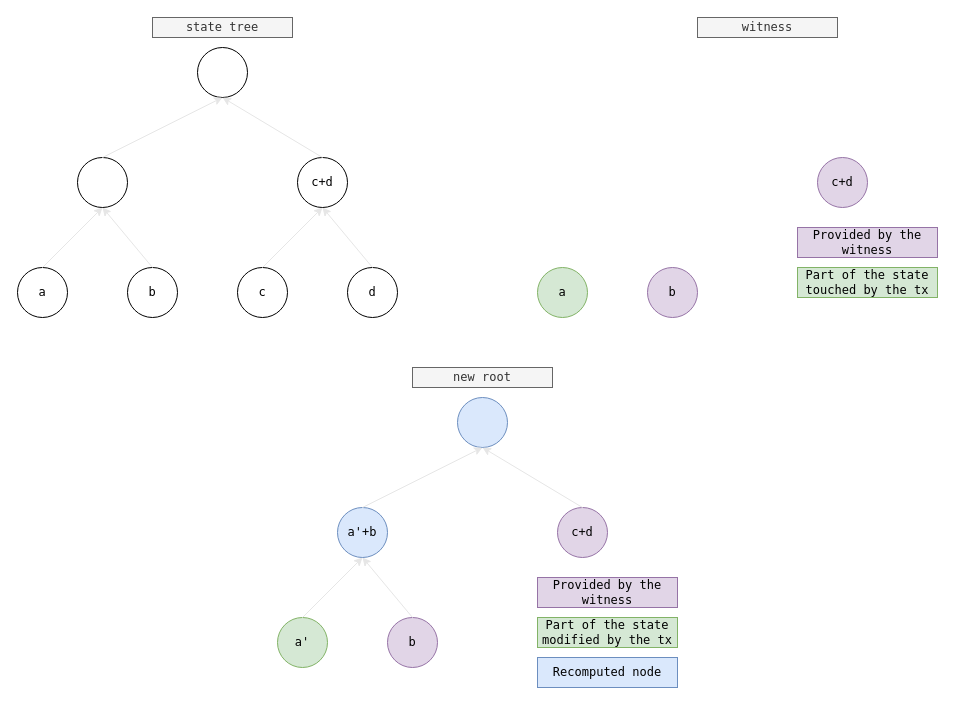
This 955x705 diagram has some shape labels left out. Each missing label, with the centre of its shape:
"a+b" goes at pixel 102 182.
"root" goes at pixel 222 72.
"root'" goes at pixel 482 422.
